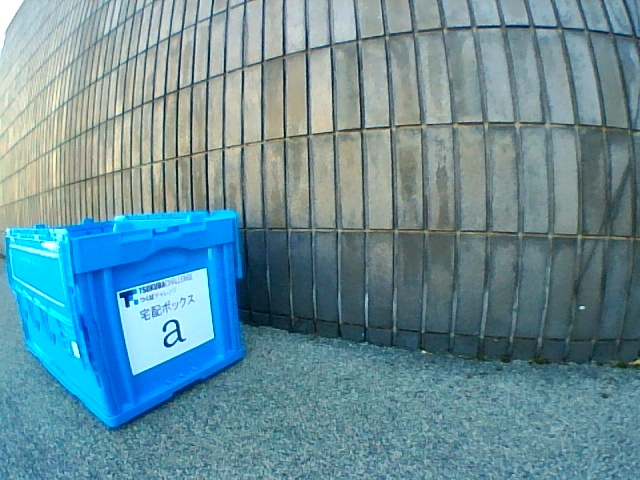blue_box: (6, 210, 244, 428)
tag_a: (155, 306, 190, 348)
